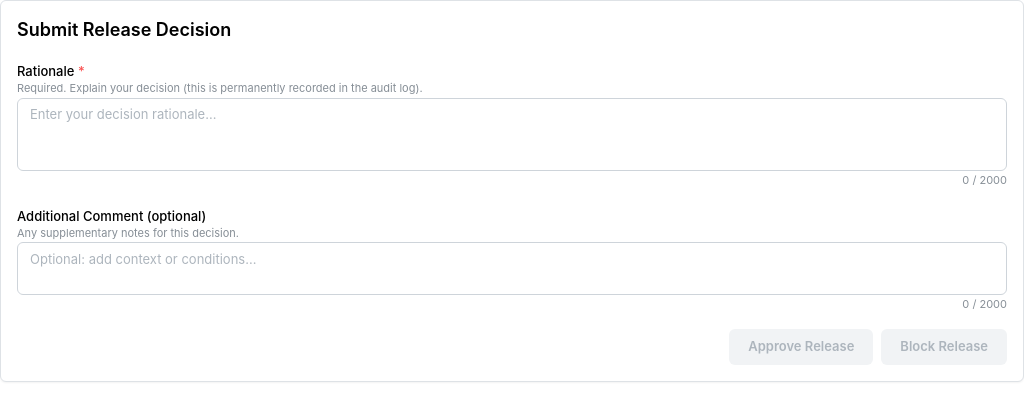
Test: ReleaseDecisionCard — rationale validation › shows validation error when rationale is too short
Step 1. Type "short" into the text box with test id "rationale-textarea" → x=512, y=134, box [17,98,1007,170]
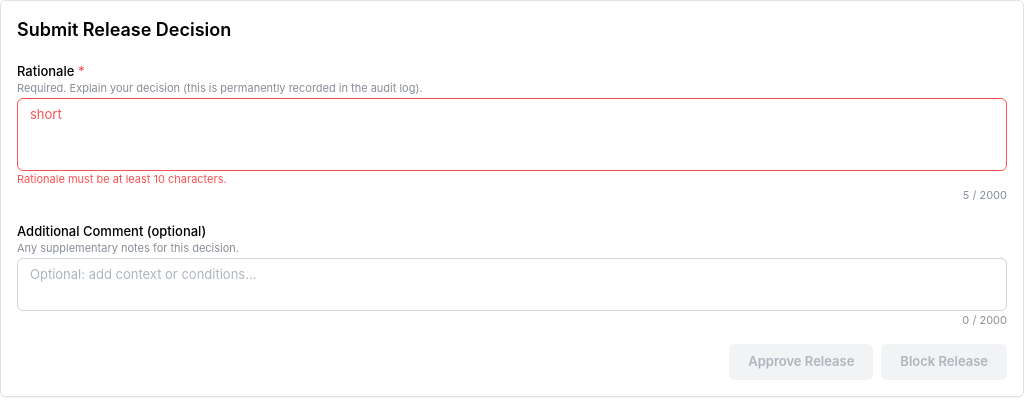
Expected: the text "Rationale must be at least 10 characters." is shown, [17,172,227,186]
